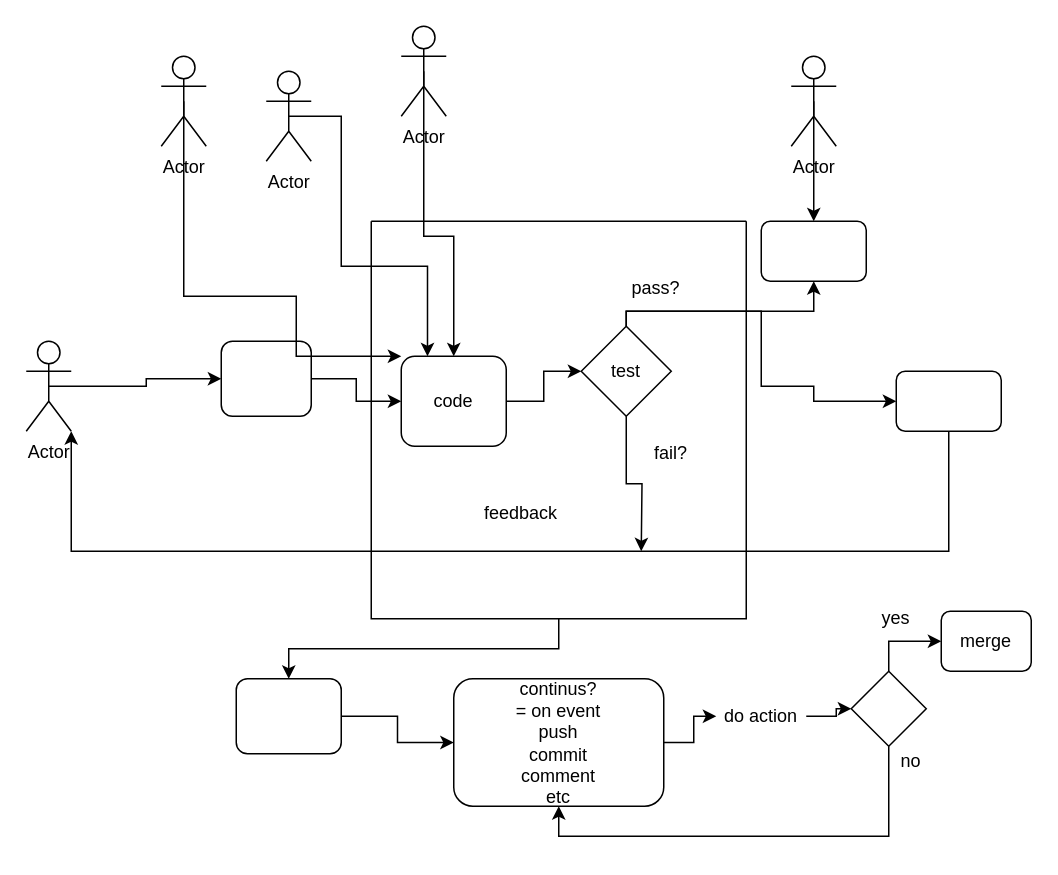
This 1058x875 diagram has some shape labels left out. Each missing label, with the centre of its shape:
ci tool (github actions): point 288,715
deploy: point 813,250
monitor: point 948,400
ok?: point 888,708
plan: point 265,378
